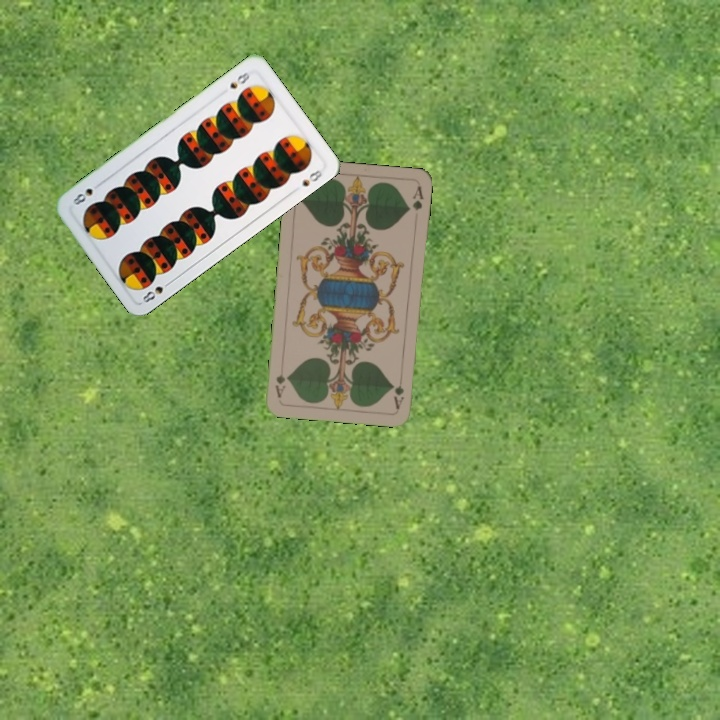GA: (390, 381, 406, 411)
S8: (139, 277, 174, 305), (225, 68, 252, 91)
